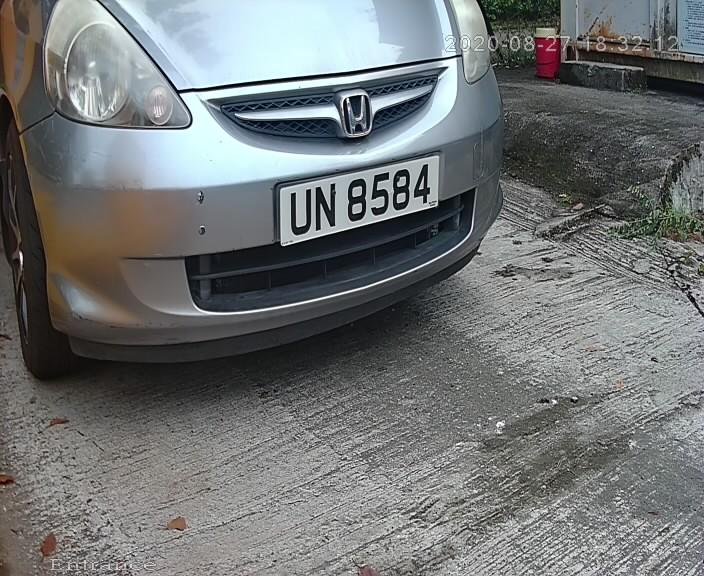License Plate: (271, 152, 444, 247)
